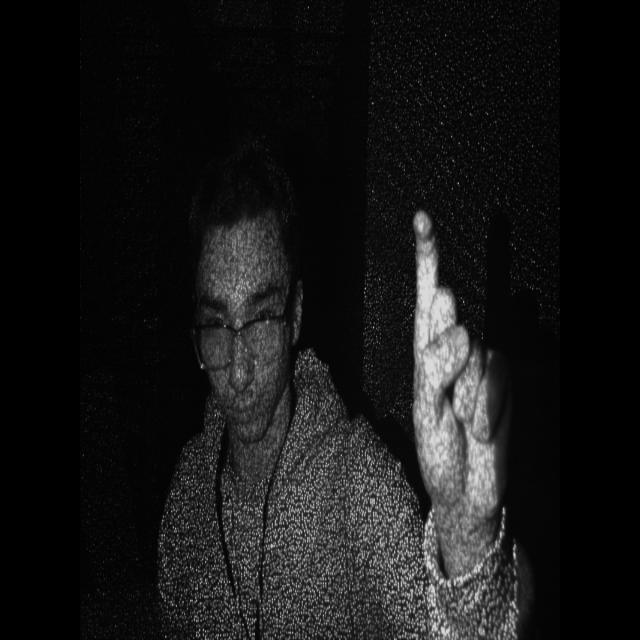X: (399, 178, 514, 516)
